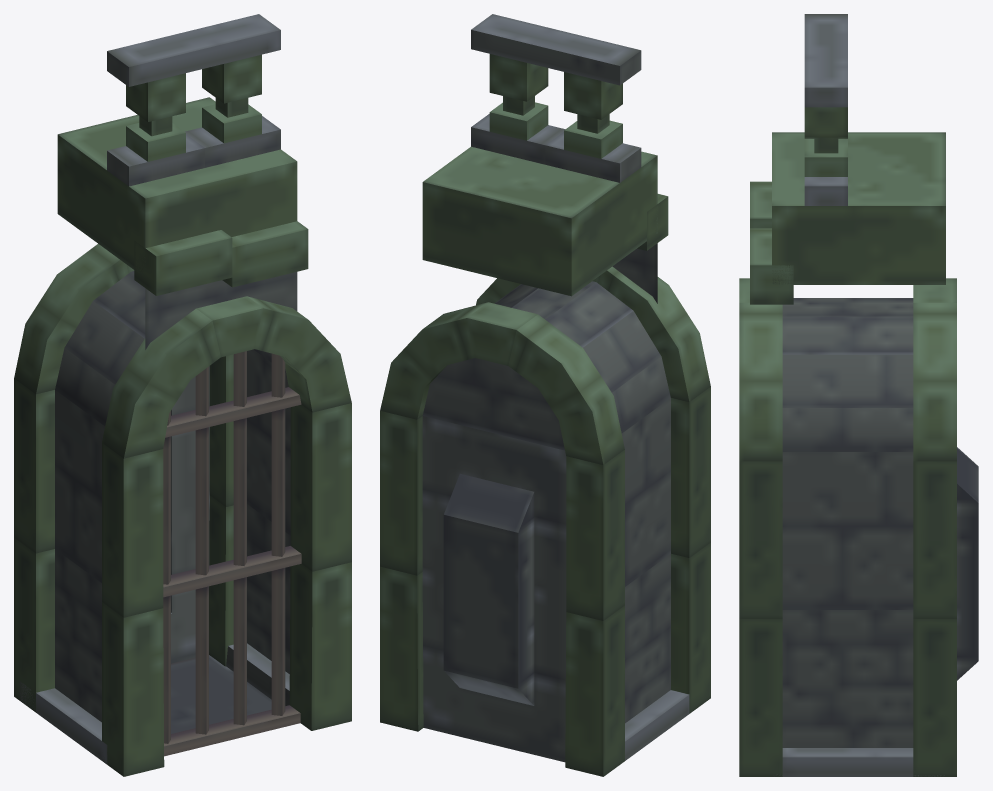
Rendered from wall_bay_3_green.fbx.
3 views of the same model, side by side, from view 1: azimuth 30°, elevation 25°; view 2: azimuth 150°, elevation 25°; view 3: azimuth 270°, elevation 25° (orthographic). The views are drawn at different scales.
Parts seen in each view (by area): view 1: wall_bay_3_green; view 2: wall_bay_3_green; view 3: wall_bay_3_green.
Part boxes in pixels (box(x1,y1,x2,y2)): wall_bay_3_green: box(14, 14, 351, 776); wall_bay_3_green: box(380, 14, 710, 776); wall_bay_3_green: box(739, 14, 978, 776).
Size of the model in its own units: 24 by 68 by 22.
